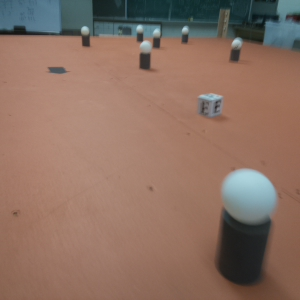obstacle: (215, 167, 280, 288), (137, 42, 153, 71), (229, 38, 246, 62), (79, 27, 92, 49), (153, 29, 161, 49), (136, 26, 145, 43), (182, 27, 190, 46)
